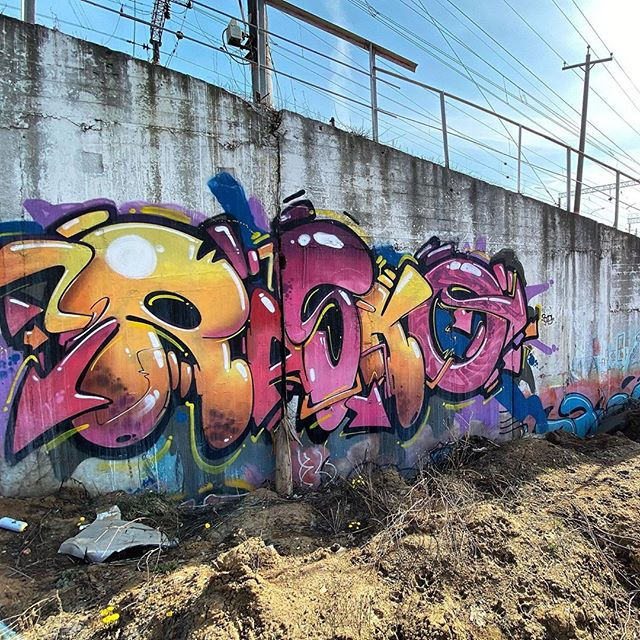graffiti: (1, 188, 549, 446)
